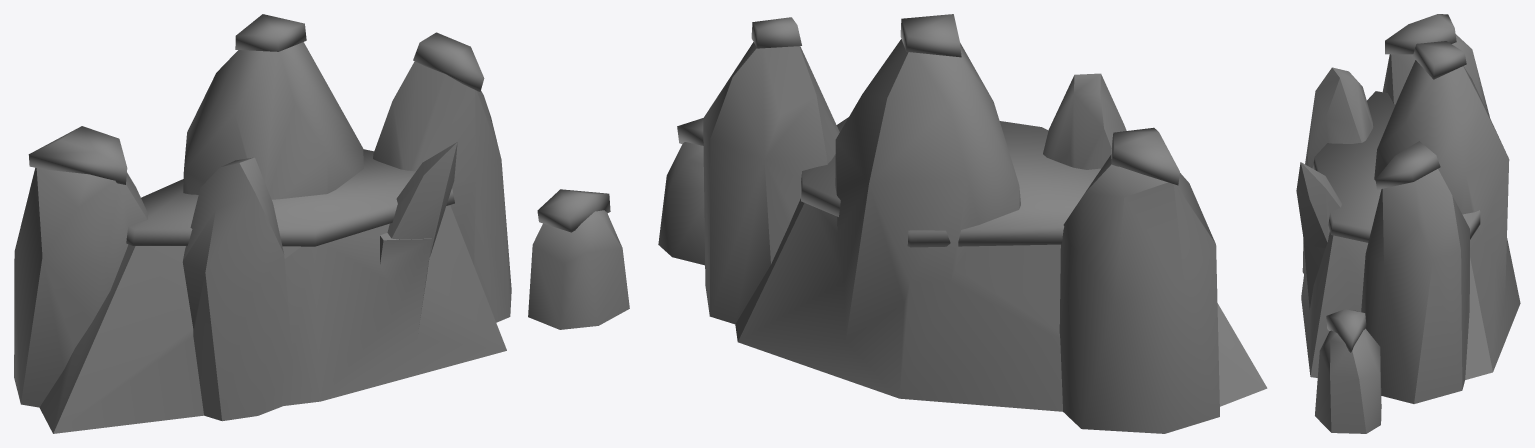
The model's file is rocks_snow_D_lavender.fbx.
3 views of the same model, side by side, from view 1: azimuth 30°, elevation 25°; view 2: azimuth 150°, elevation 25°; view 3: azimuth 270°, elevation 25° (orthographic). The views are drawn at different scales.
Parts seen in each view (by area): view 1: rocks_snow_D_lavender; view 2: rocks_snow_D_lavender; view 3: rocks_snow_D_lavender.
Part boxes in pixels (x1,y1,x2,y2): rocks_snow_D_lavender: (14, 14, 629, 433); rocks_snow_D_lavender: (658, 14, 1267, 433); rocks_snow_D_lavender: (1296, 14, 1520, 433).
Size of the model in its own units: 7.54 by 4.03 by 3.06.
